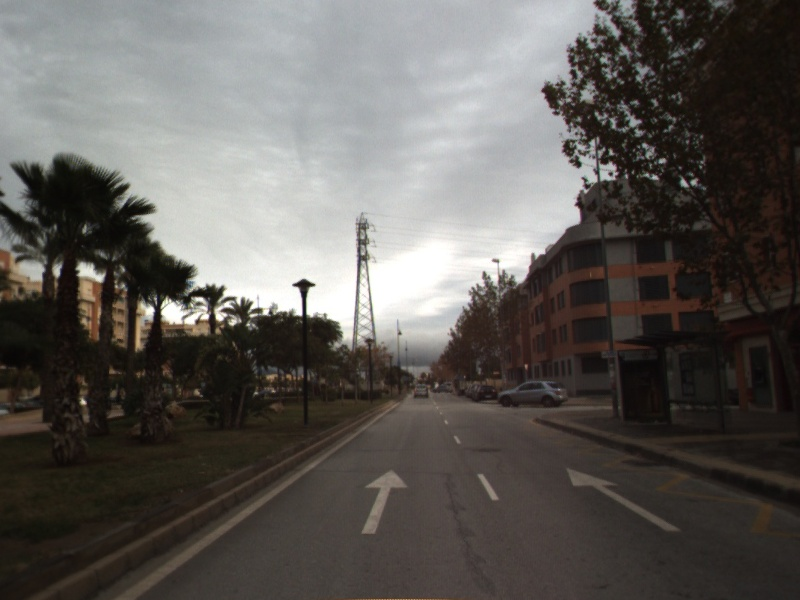STRAIGHT: (565, 466, 684, 534), (359, 468, 410, 536)
